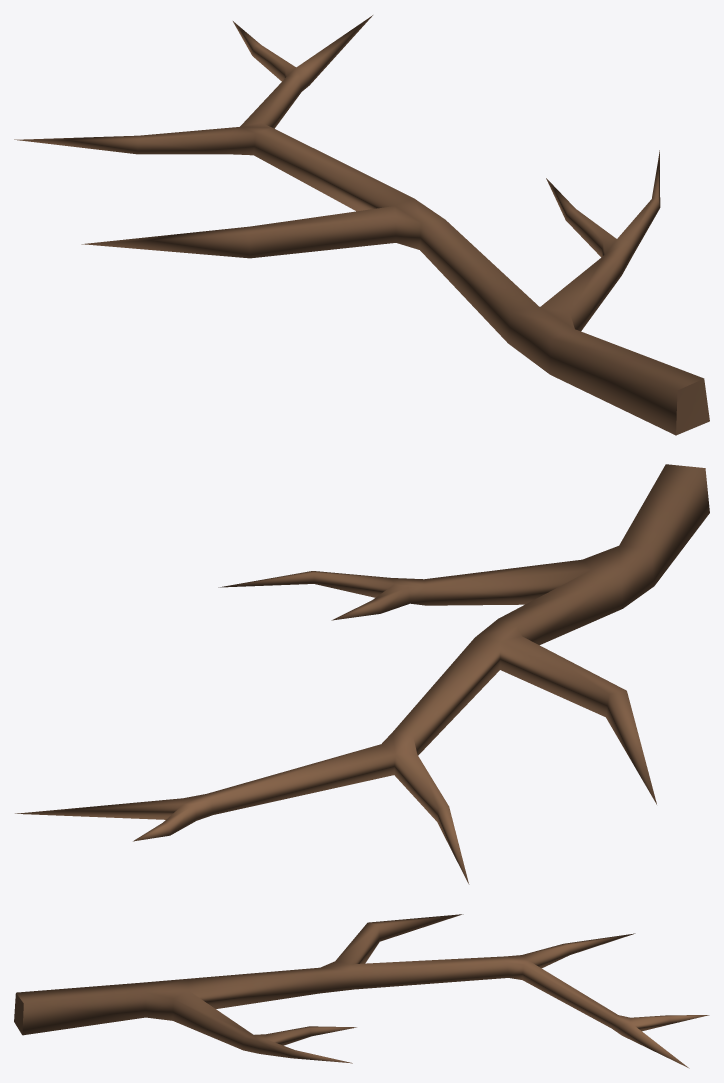
The model's file is BranchSmall2.fbx.
The picture shows the model from 3 angles, top to bottom: view 1: azimuth 30°, elevation 25°; view 2: azimuth 150°, elevation 25°; view 3: azimuth 270°, elevation 25°; orthographic projection. The views are drawn at different scales.
Visible parts, largest first — view 1: BranchSmall2; view 2: BranchSmall2; view 3: BranchSmall2.
Boxes of the visible parts, left/top/right/bottom form: BranchSmall2: left=14, top=15, right=709, bottom=435; BranchSmall2: left=15, top=464, right=709, bottom=884; BranchSmall2: left=14, top=914, right=709, bottom=1068.
Bounding box in the file's own units: 34.6 × 4.18 × 59.79.
